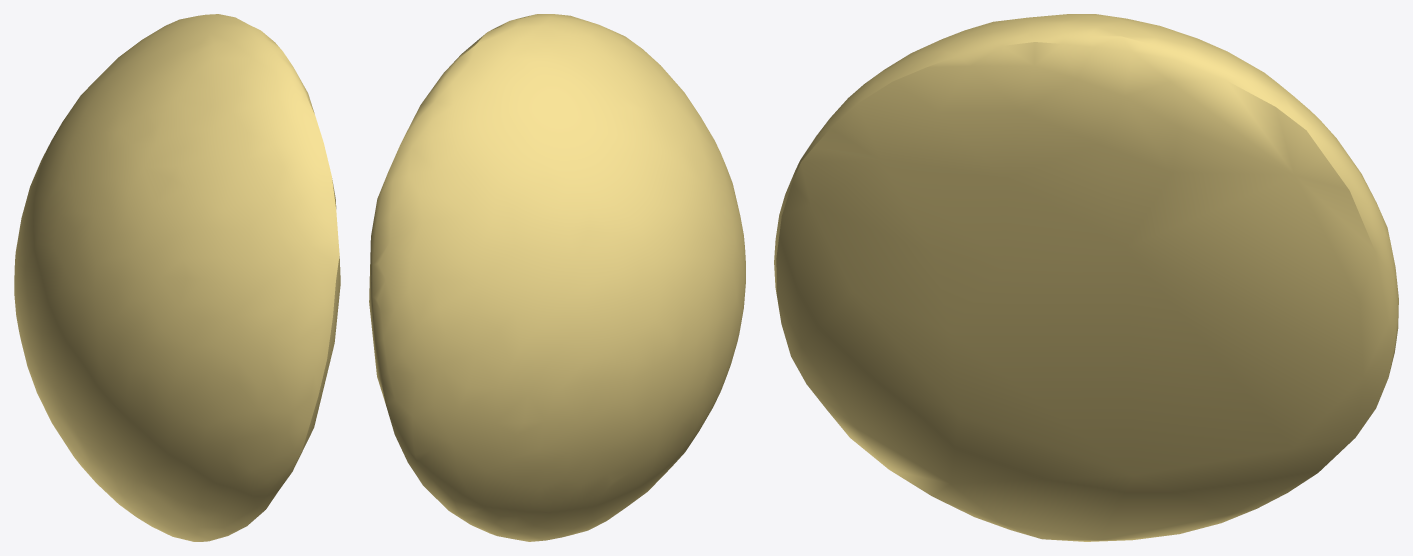
File: fma73343_mm2969m.glb
The picture shows the model from 3 angles, left to right: view 1: azimuth 30°, elevation 25°; view 2: azimuth 150°, elevation 25°; view 3: azimuth 270°, elevation 25°; orthographic projection. The views are drawn at different scales.
Parts seen in each view (by area): view 1: FMA73343_MM2969M; view 2: FMA73343_MM2969M; view 3: FMA73343_MM2969M.
Boxes of the visible parts, x1,y1,x2,y2 form: FMA73343_MM2969M: (14,14,340,541); FMA73343_MM2969M: (369,14,745,541); FMA73343_MM2969M: (774,14,1398,541).
Size of the model in its own units: 0.00149 by 0.00288 by 0.0029.
